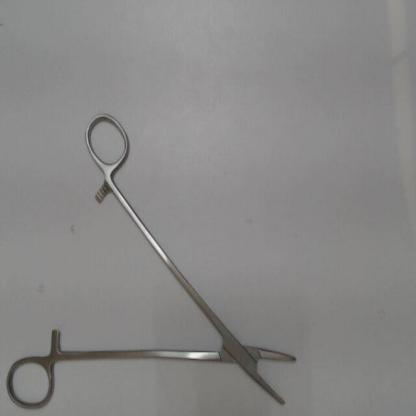8 Mayo Needle Holder: (2, 100, 310, 415)
